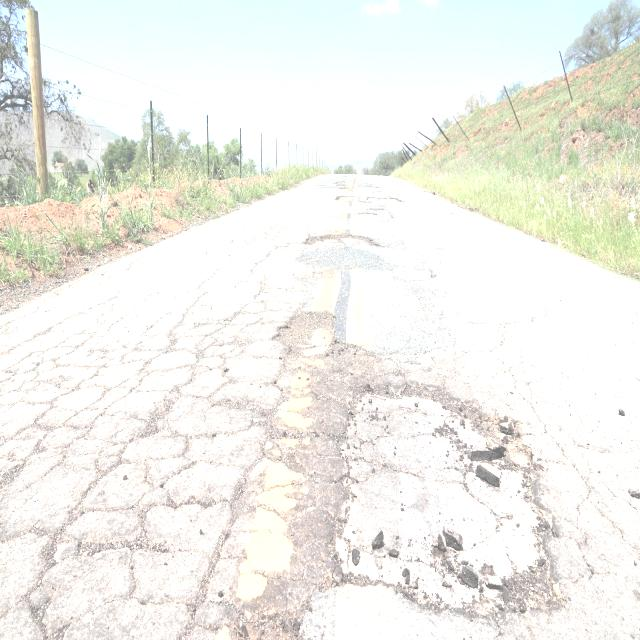Pothole: (249, 296, 561, 640)
